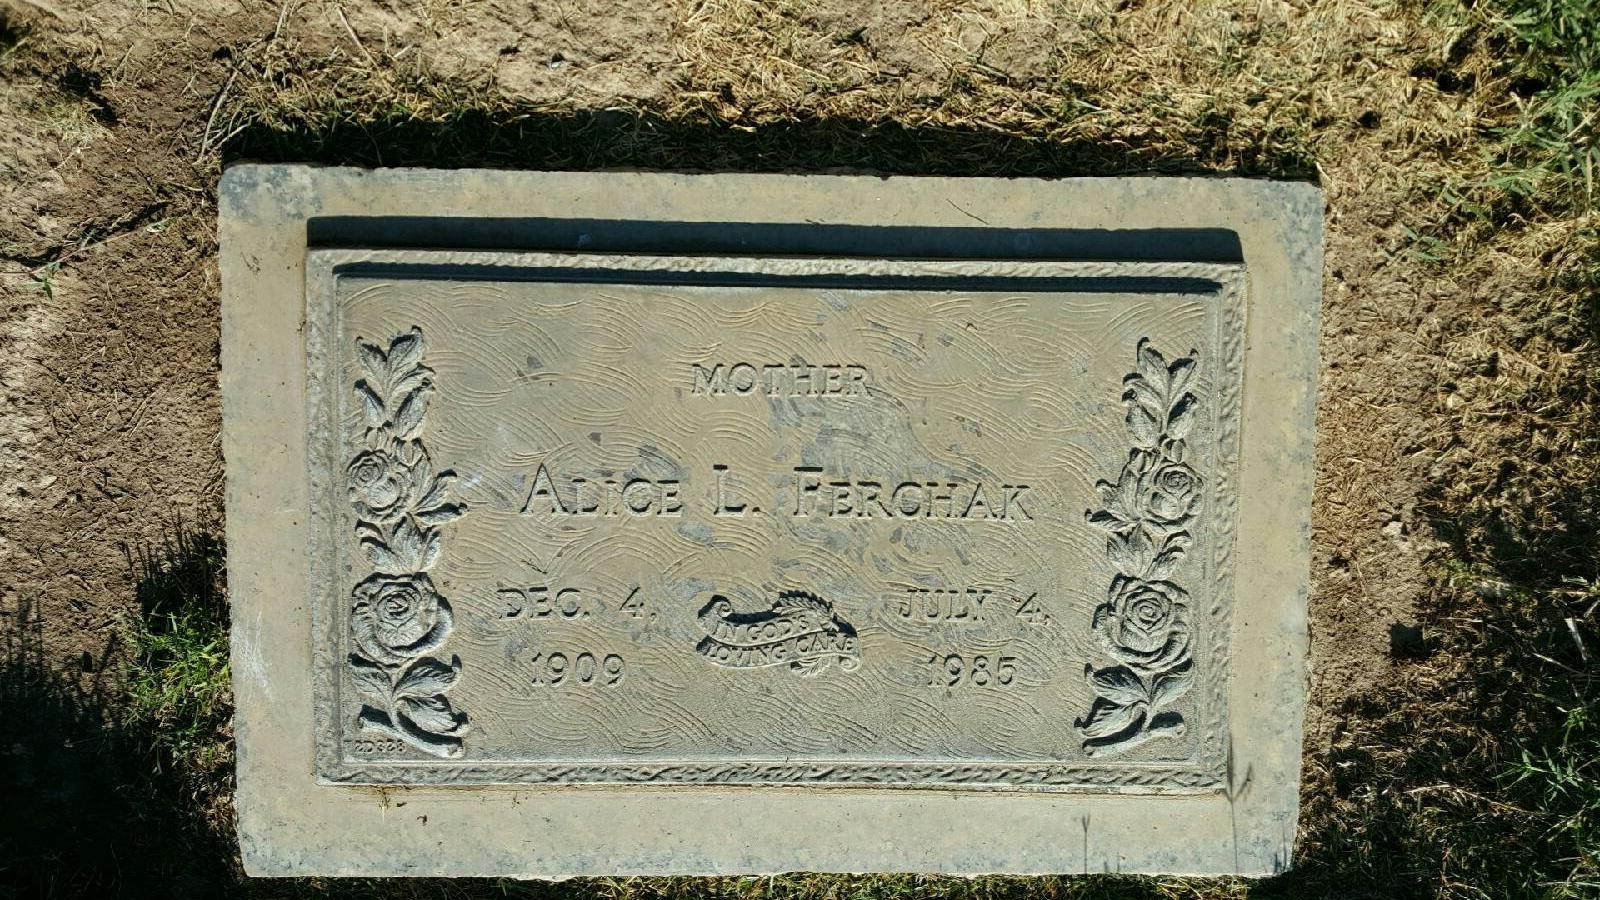flat: (215, 164, 1312, 884)
